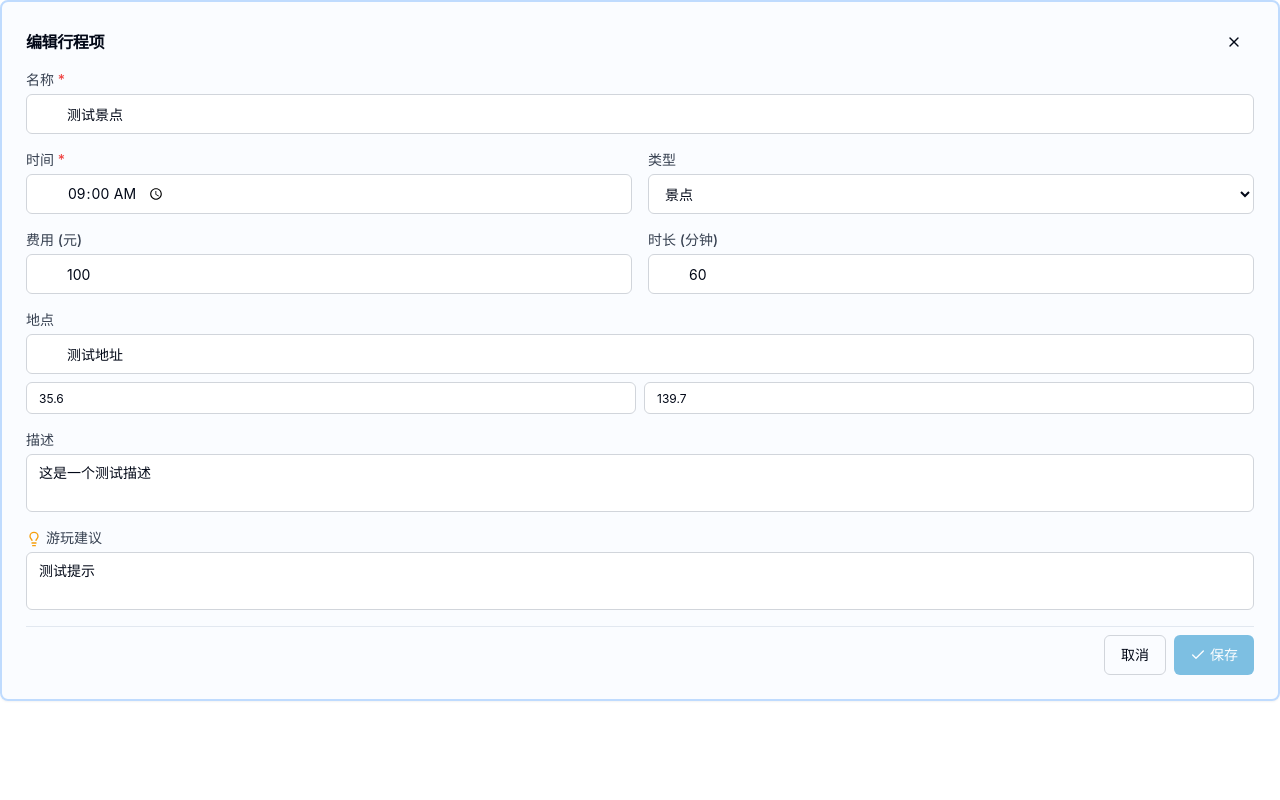
Test: ItemEditor › 表单验证 › 应该验证名称必填
Clear the field showing "测试景点" below "名称". click: point(640, 114)
box: [26,94,1254,134]
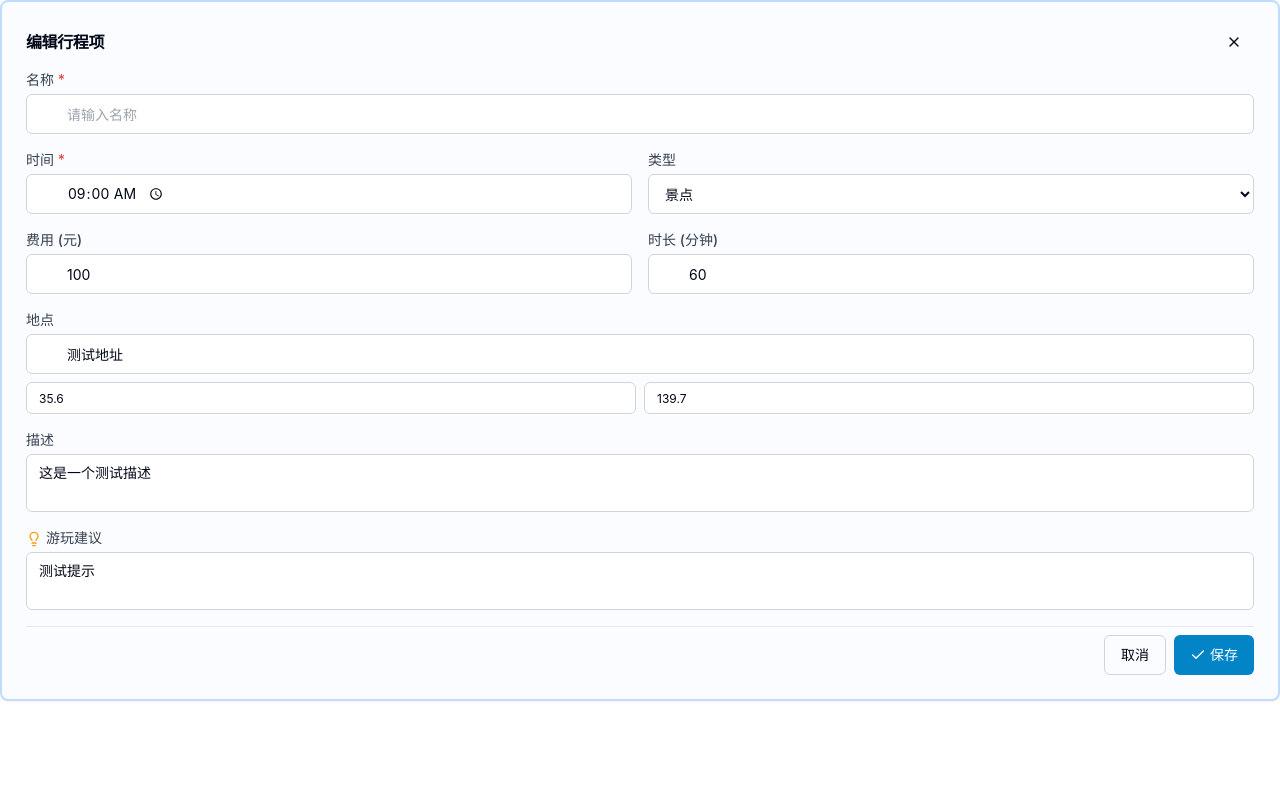
Click the button "保存". click: point(1214, 655)
box: [1174,635,1254,675]
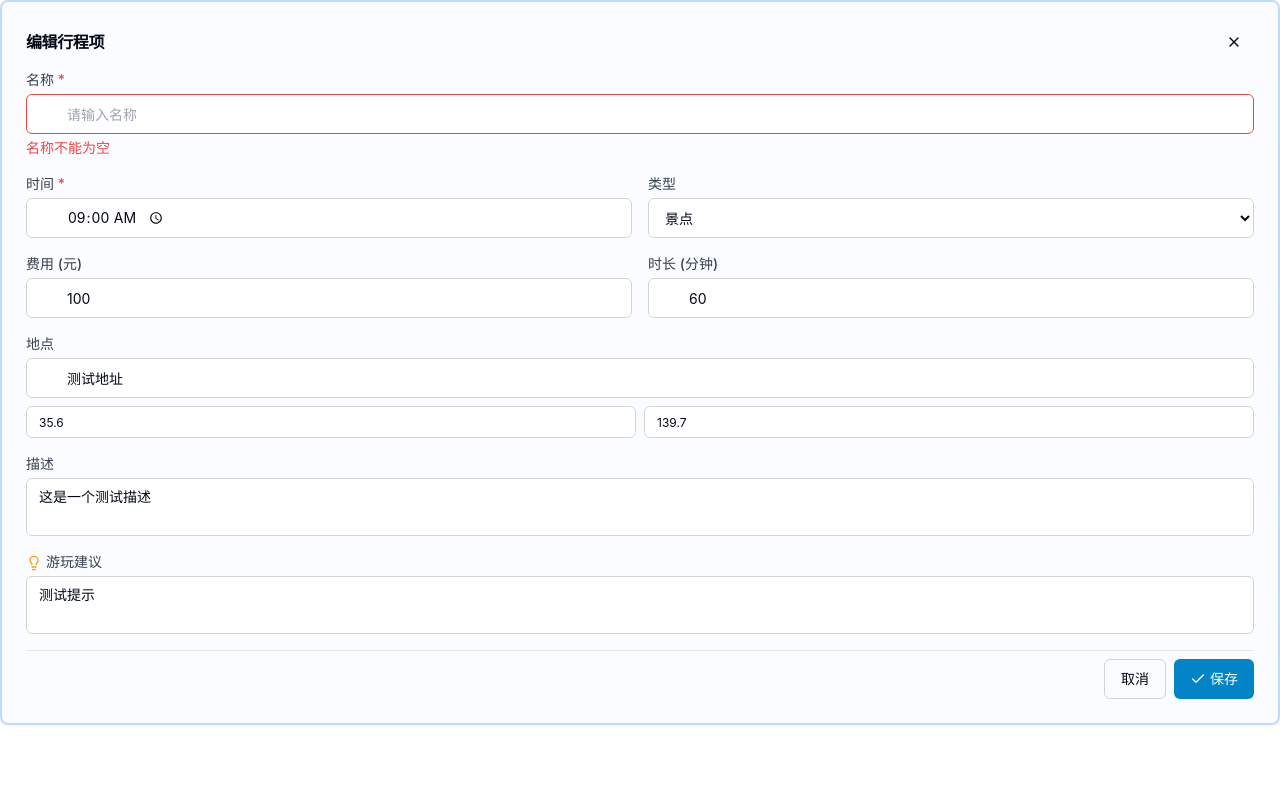
Result: the text "名称不能为空" is shown at [26,139,110,156]
